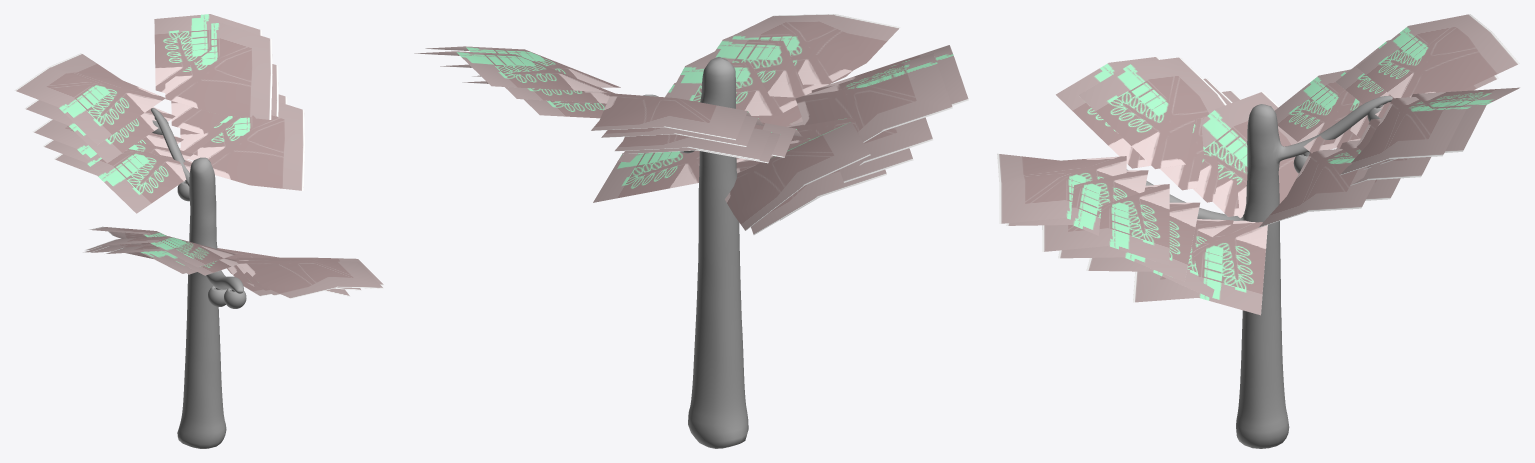
File: Tree_2_with_Leafs.fbx
3 renders of one model, left to right at view 1: azimuth 30°, elevation 25°; view 2: azimuth 150°, elevation 25°; view 3: azimuth 270°, elevation 25°, orthographic. The views are drawn at different scales.
Parts seen in each view (by area): view 1: pPlane153, pSphere31; view 2: pPlane153, pSphere31; view 3: pPlane153, pSphere31.
Boxes of the visible parts, left/top/right/bottom form: pPlane153: left=14, top=14, right=383, bottom=298; pSphere31: left=151, top=108, right=246, bottom=448; pPlane153: left=414, top=14, right=968, bottom=234; pSphere31: left=643, top=57, right=748, bottom=448; pPlane153: left=997, top=14, right=1519, bottom=315; pSphere31: left=1126, top=96, right=1392, bottom=448.
Size of the model in its own units: 3.06 by 3.39 by 4.06.
2 materials, 1 textured.
